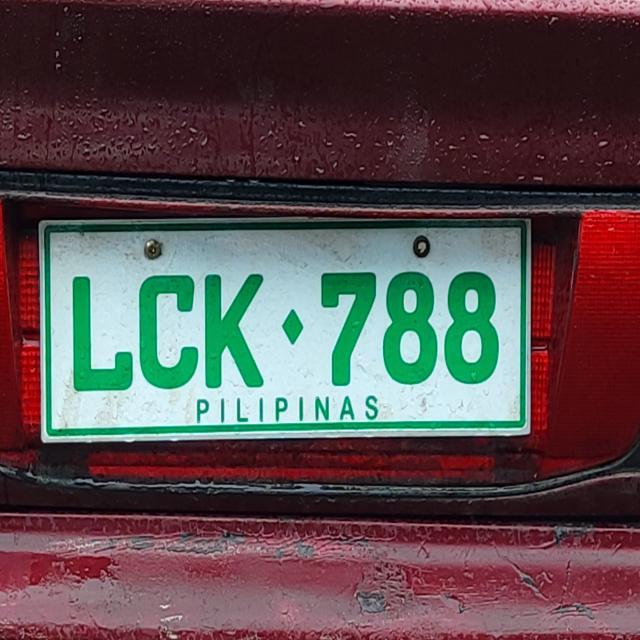LicensePlate: (32, 204, 541, 440)
